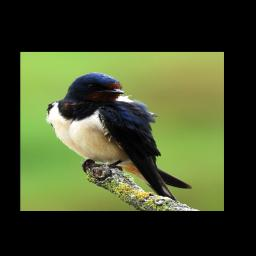Swallow: (45, 72, 193, 203)
